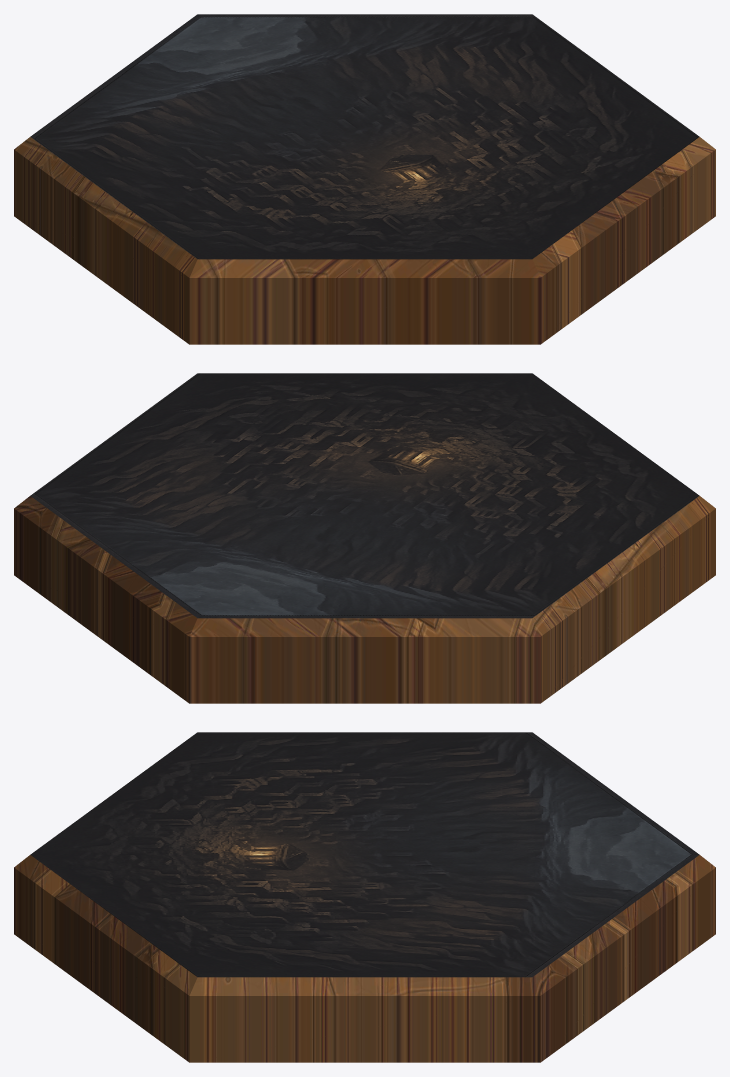
Rendered from ancient-shrines.glb.
3 renders of one model, top to bottom at view 1: azimuth 30°, elevation 25°; view 2: azimuth 150°, elevation 25°; view 3: azimuth 270°, elevation 25°, orthographic.
Visible parts, largest first — view 1: Circle; view 2: Circle; view 3: Circle.
Boxes of the visible parts, x1=… form: Circle: x1=14, y1=14, x2=715, y2=344; Circle: x1=14, y1=373, x2=715, y2=703; Circle: x1=14, y1=732, x2=715, y2=1062.
Bounding box in the file's own units: 1.73 × 0.25 × 2.
Materials: 2 (2 with a texture image).
